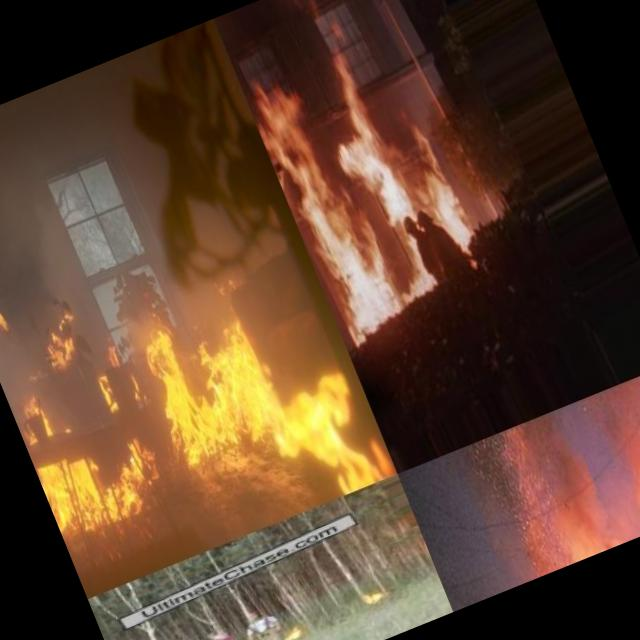fire: (291, 0, 480, 279), (246, 71, 412, 344), (0, 304, 173, 543), (120, 285, 295, 485), (258, 352, 396, 509), (358, 585, 386, 607), (281, 622, 307, 640)
smoke: (460, 405, 621, 586), (213, 0, 312, 98), (587, 359, 640, 532), (279, 0, 368, 18)
